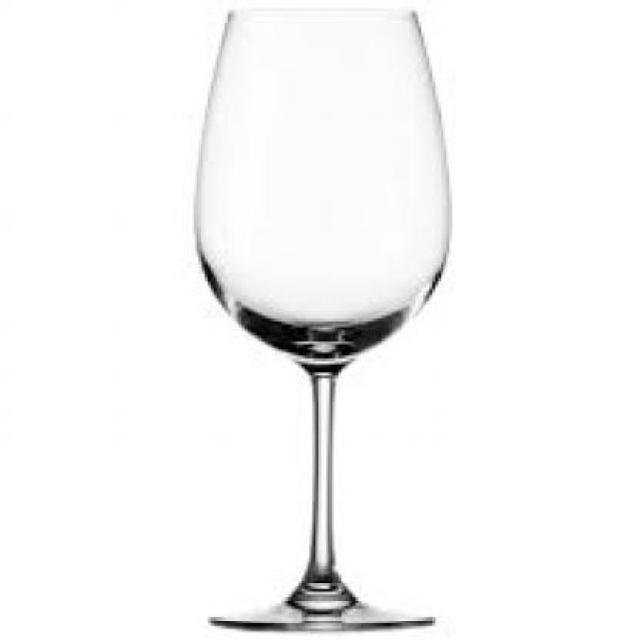kaca: (191, 9, 446, 626)
